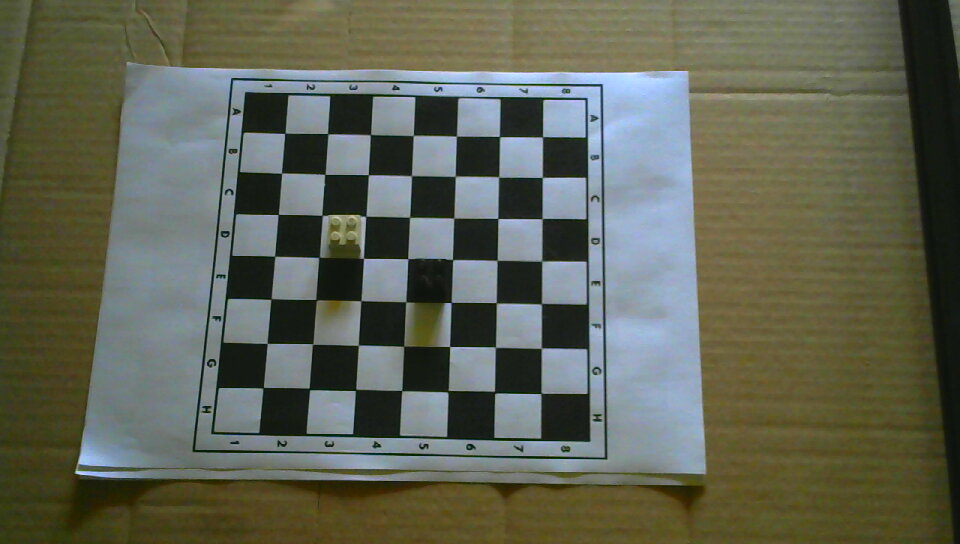bp: (410, 256, 449, 300)
wp: (326, 213, 362, 254)
